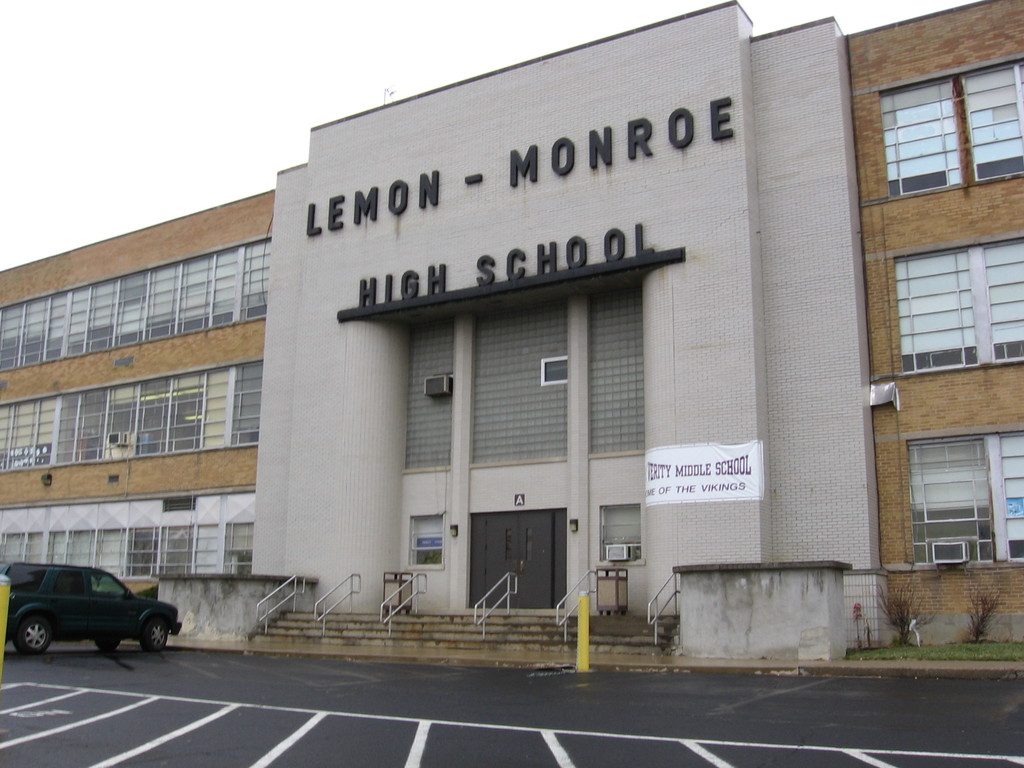Car: (7, 565, 183, 651)
